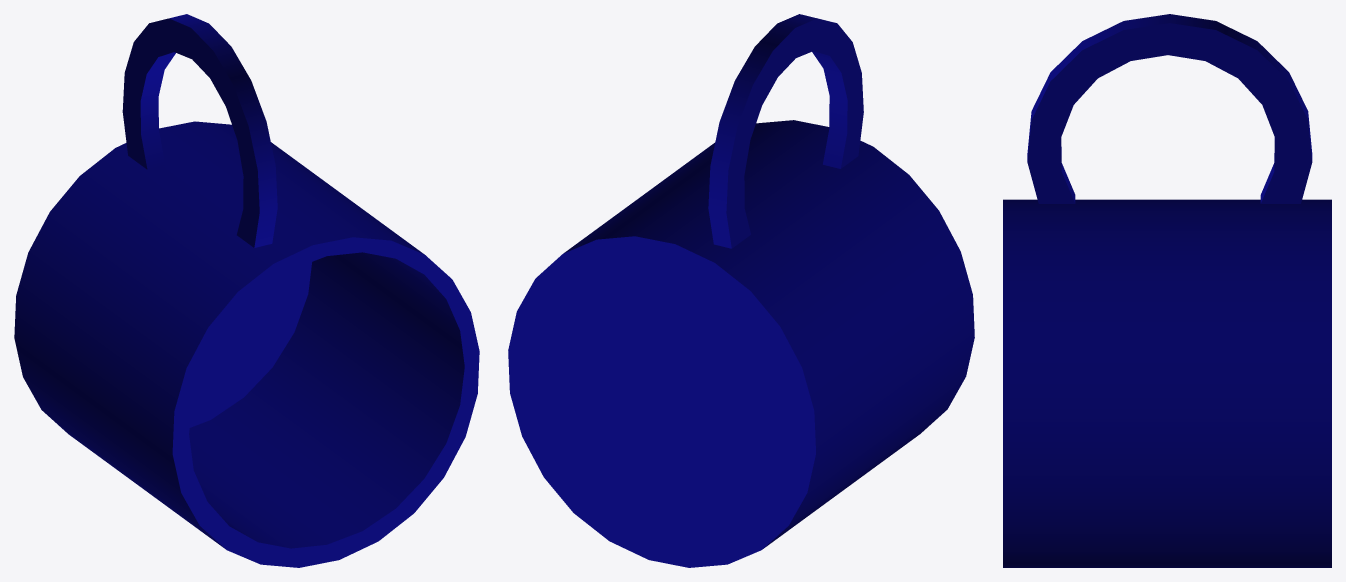
The model's file is model_scale.obj.
3 views of the same model, side by side, from view 1: azimuth 30°, elevation 25°; view 2: azimuth 150°, elevation 25°; view 3: azimuth 270°, elevation 25° (orthographic). The views are drawn at different scales.
Visible parts, largest first — view 1: mesh1_mesh1-geometry, mesh2_mesh2-geometry; view 2: mesh1_mesh1-geometry, mesh2_mesh2-geometry; view 3: mesh1_mesh1-geometry, mesh2_mesh2-geometry.
Boxes of the visible parts, left/top/right/bottom form: mesh1_mesh1-geometry: left=14, top=121, right=479, bottom=567; mesh2_mesh2-geometry: left=122, top=14, right=277, bottom=247; mesh1_mesh1-geometry: left=508, top=120, right=974, bottom=567; mesh2_mesh2-geometry: left=708, top=14, right=863, bottom=248; mesh1_mesh1-geometry: left=1003, top=199, right=1331, bottom=567; mesh2_mesh2-geometry: left=1027, top=14, right=1312, bottom=203.
Size of the model in its own units: 0.0912 by 0.139 by 0.0814.
